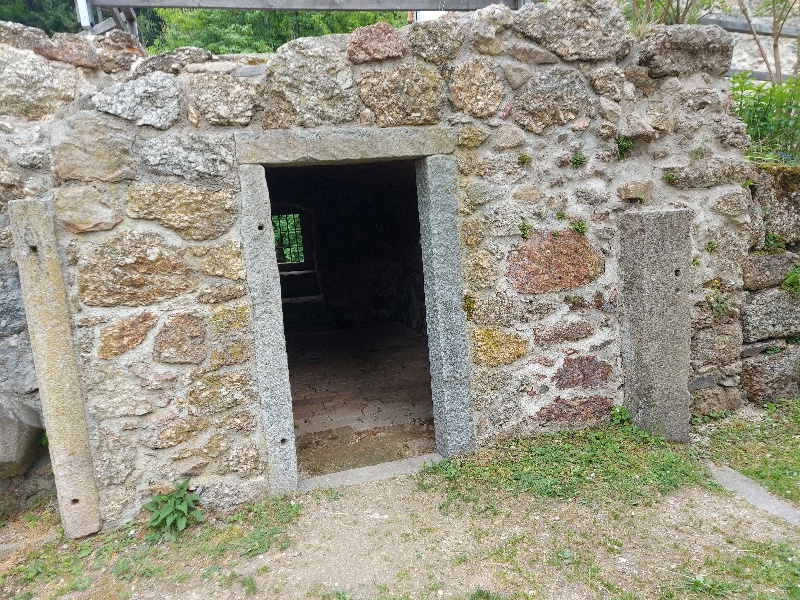door2: (225, 116, 497, 485)
